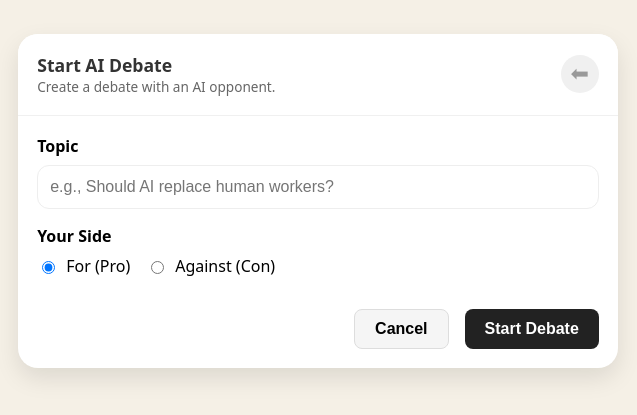
Test: Page tests › AIDebatePage shows validation and start failure
Clear the field with placeholder "e.g., Should AI replace human workers?". click: (318, 187)
box: [37,165,599,209]
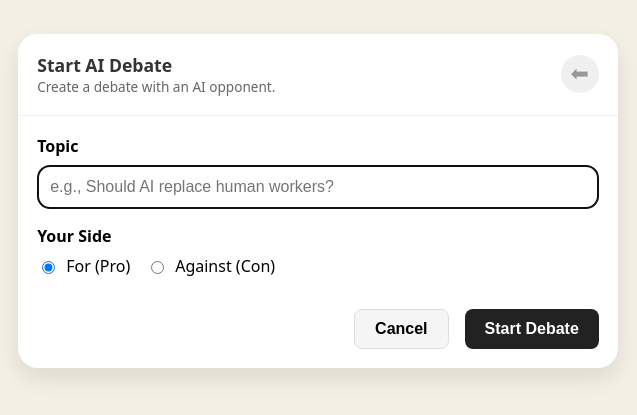
Click the button "Start Debate". click: (532, 329)
box: [465,309,599,349]
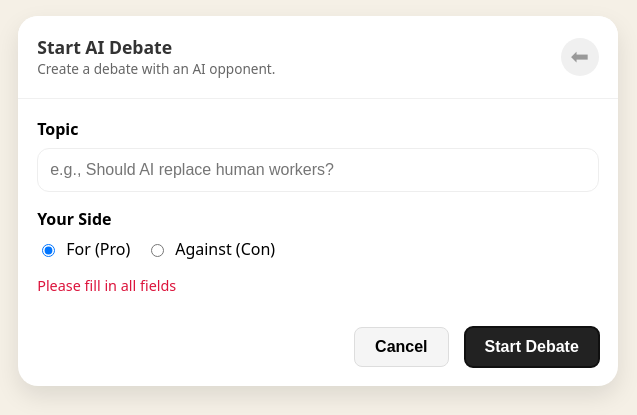
Result: the text "Please fill in all fields" is shown at [37,276,176,295]
